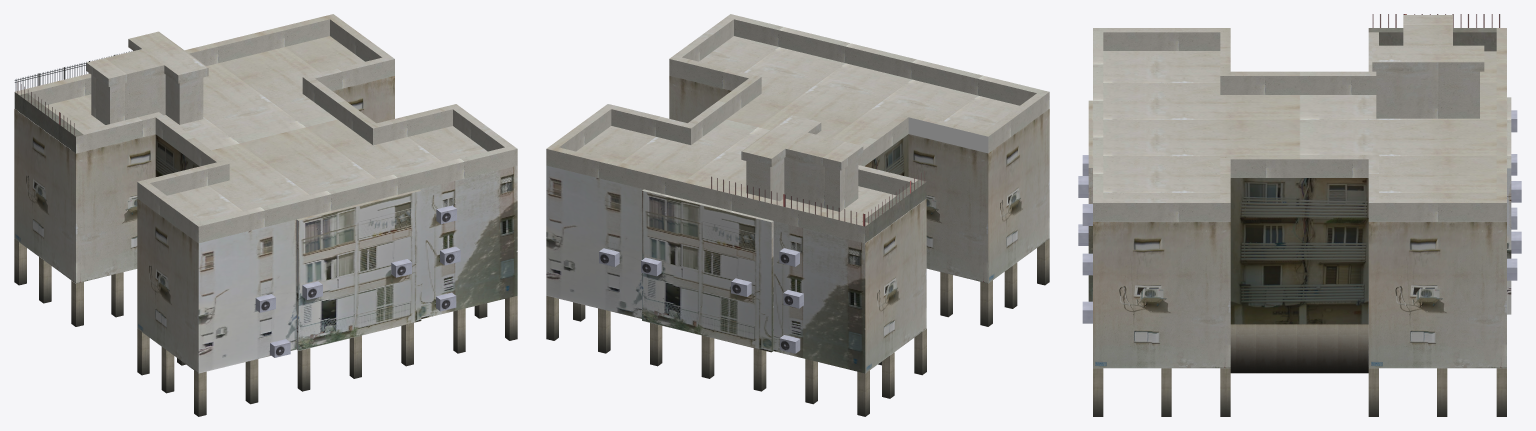
File: BUILDINGFINALOLD3.gltf
3 views of the same model, side by side, from view 1: azimuth 30°, elevation 25°; view 2: azimuth 150°, elevation 25°; view 3: azimuth 270°, elevation 25° (orthographic). The views are drawn at different scales.
Parts seen in each view (by area): view 1: node3, node8, node2, node9, node6, node7, node10, node4, node12; view 2: node3, node8, node2, node9, node6, node7, node10, node4, node5; view 3: node3, node2, node10, node11, node9, node4, node6, node8.
Part boxes in pixels (bbox=[...]): node3: bbox=[15, 14, 517, 243]; node8: bbox=[198, 165, 517, 373]; node2: bbox=[14, 76, 394, 373]; node9: bbox=[14, 239, 517, 416]; node6: bbox=[14, 92, 83, 152]; node7: bbox=[260, 209, 460, 357]; node10: bbox=[155, 134, 199, 176]; node4: bbox=[255, 205, 459, 357]; node12: bbox=[14, 51, 131, 91]; node3: bbox=[546, 14, 1049, 242]; node8: bbox=[546, 165, 865, 373]; node2: bbox=[669, 75, 1049, 373]; node9: bbox=[546, 239, 1049, 416]; node6: bbox=[862, 179, 926, 242]; node7: bbox=[599, 251, 799, 353]; node10: bbox=[865, 134, 908, 176]; node4: bbox=[599, 248, 803, 353]; node5: bbox=[711, 171, 924, 226]; node3: bbox=[1088, 15, 1511, 221]; node2: bbox=[1093, 221, 1506, 368]; node10: bbox=[1230, 178, 1368, 324]; node11: bbox=[1230, 324, 1368, 373]; node9: bbox=[1093, 368, 1506, 416]; node4: bbox=[1078, 110, 1521, 323]; node6: bbox=[1368, 28, 1496, 51]; node8: bbox=[1088, 168, 1511, 314].
Size of the model in its own units: 20 by 13.5 by 21.4.
